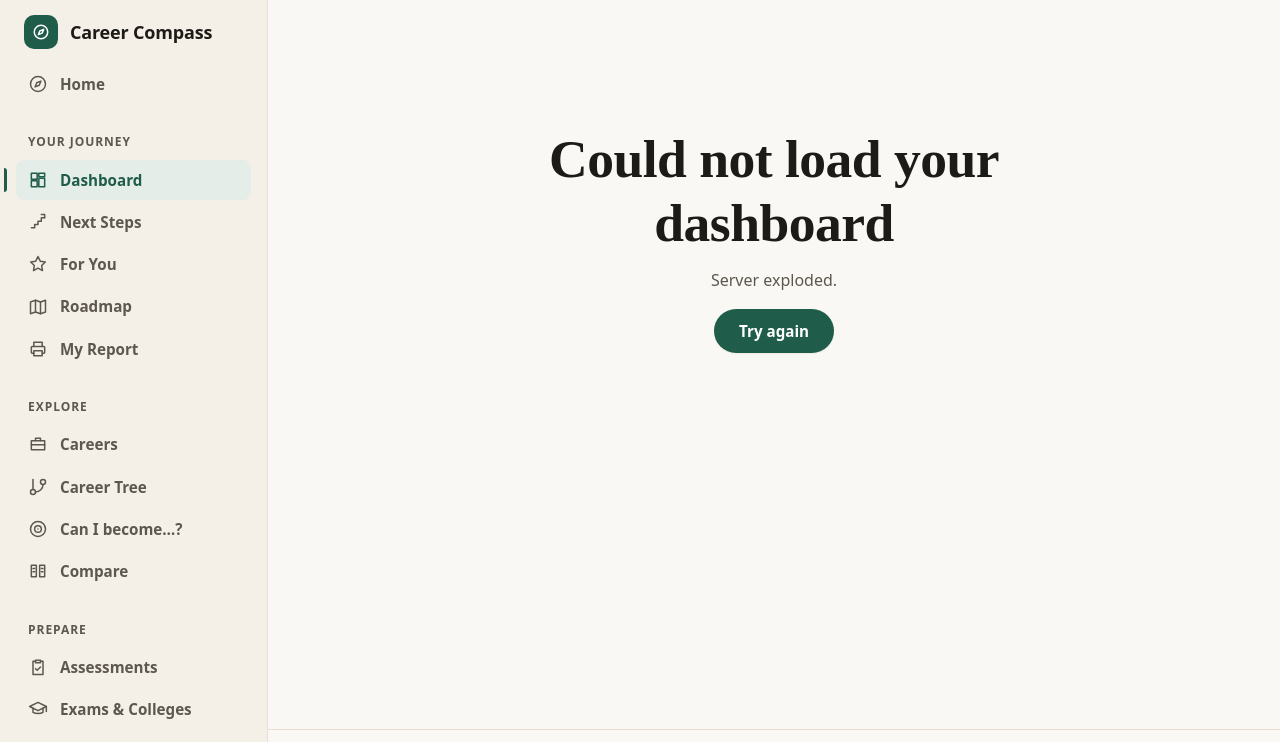
Test: Dashboard › shows a retry screen when loading fails, and recovers
Expected: the heading "Could not load your dashboard" is shown, top-left (514, 127), bottom-right (1034, 256)
Expected: the text "Server exploded." is shown, top-left (711, 268), bottom-right (837, 290)
Click the button "Try again". click: (774, 331)
box: top-left (714, 309), bottom-right (834, 353)
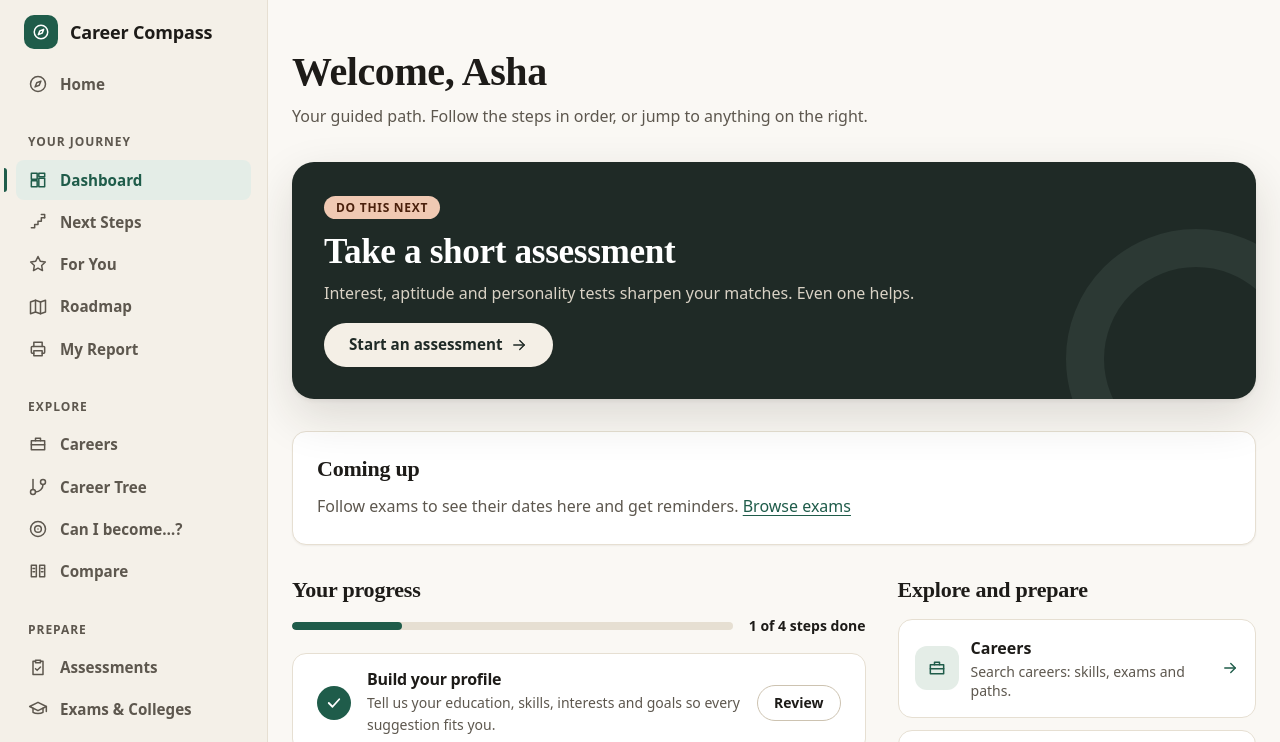
Now the element named "Recommended next step" shows "Take a short assessment", box top-left (324, 232), bottom-right (675, 271)
